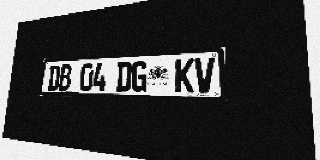0: (79, 63, 94, 91)
4: (92, 63, 107, 91)
B: (58, 64, 72, 91)
D: (115, 61, 132, 92), (47, 65, 61, 91)
G: (131, 61, 148, 92)
K: (175, 58, 194, 93)
V: (195, 57, 215, 93)
